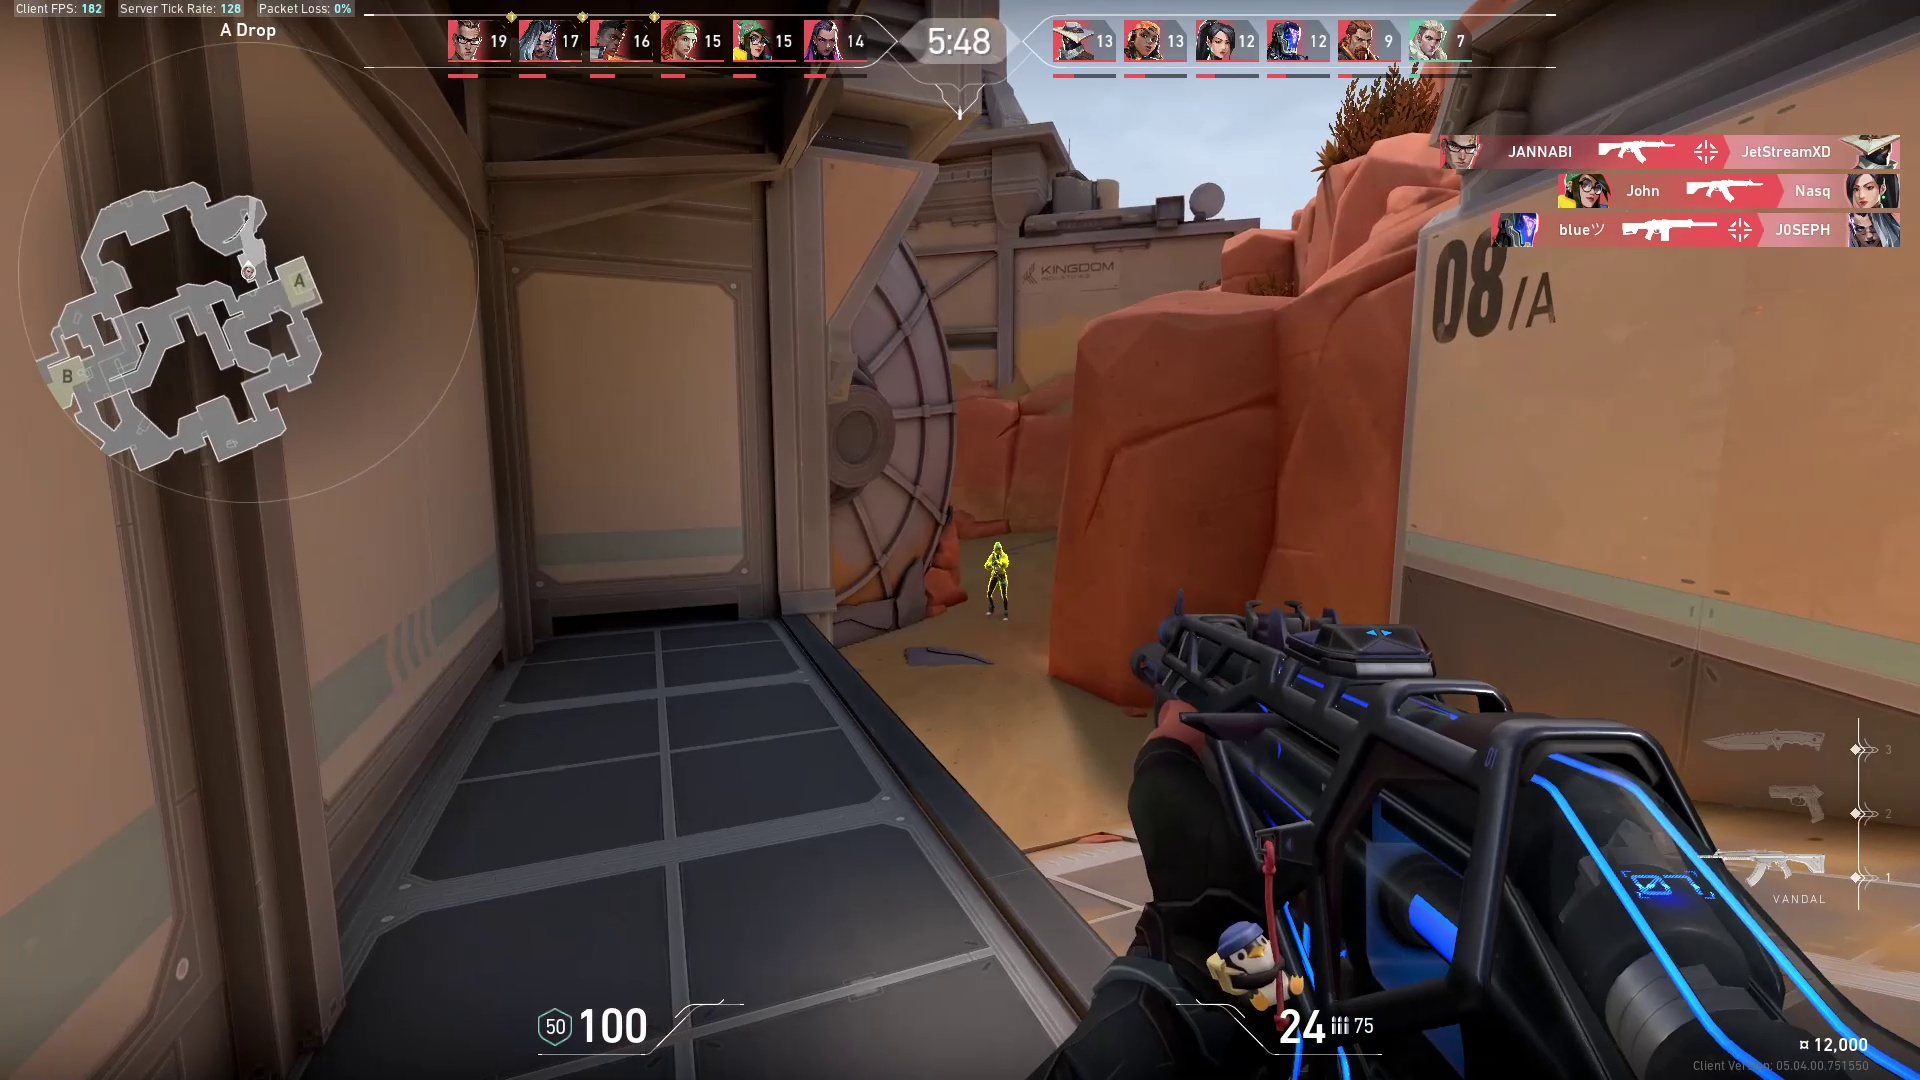enemy_body: (982, 553, 1013, 626)
enemy_head: (989, 539, 1006, 556)
